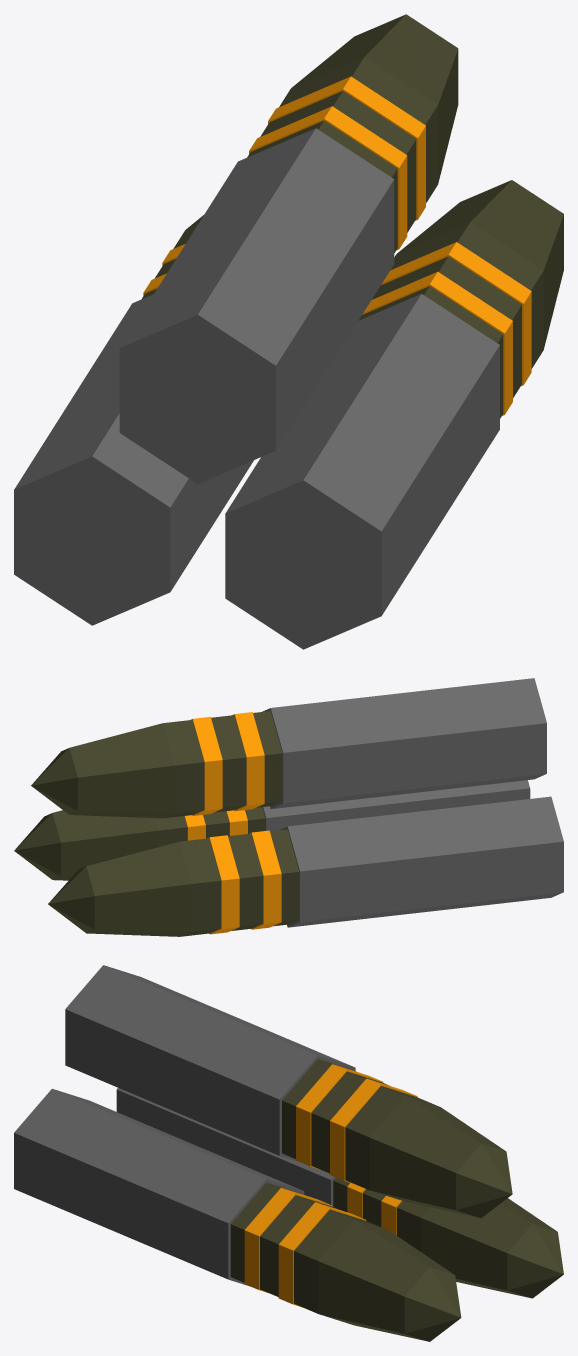
The model's file is ce_ammo2_rcl84_heab_b.obj.
3 renders of one model, top to bottom at view 1: azimuth 30°, elevation 25°; view 2: azimuth 150°, elevation 25°; view 3: azimuth 270°, elevation 25°, orthographic. The views are drawn at different scales.
Parts seen in each view (by area): view 1: ce_ammo2_rcl84_heab_b_16, ce_ammo2_rcl84_heab_b_8, ce_ammo2_rcl84_heab_b_0, ce_ammo2_rcl84_heab_b_14, ce_ammo2_rcl84_heab_b_22, ce_ammo2_rcl84_heab_b_13, ce_ammo2_rcl84_heab_b_21, ce_ammo2_rcl84_heab_b_19, ce_ammo2_rcl84_heab_b_18, ce_ammo2_rcl84_heab_b_20, ce_ammo2_rcl84_heab_b_11, ce_ammo2_rcl84_heab_b_10 (+3 smaller); view 2: ce_ammo2_rcl84_heab_b_0, ce_ammo2_rcl84_heab_b_16, ce_ammo2_rcl84_heab_b_6, ce_ammo2_rcl84_heab_b_22, ce_ammo2_rcl84_heab_b_8, ce_ammo2_rcl84_heab_b_14, ce_ammo2_rcl84_heab_b_5, ce_ammo2_rcl84_heab_b_21, ce_ammo2_rcl84_heab_b_19, ce_ammo2_rcl84_heab_b_3, ce_ammo2_rcl84_heab_b_4, ce_ammo2_rcl84_heab_b_2 (+12 smaller); view 3: ce_ammo2_rcl84_heab_b_16, ce_ammo2_rcl84_heab_b_8, ce_ammo2_rcl84_heab_b_22, ce_ammo2_rcl84_heab_b_14, ce_ammo2_rcl84_heab_b_6, ce_ammo2_rcl84_heab_b_0, ce_ammo2_rcl84_heab_b_15, ce_ammo2_rcl84_heab_b_7, ce_ammo2_rcl84_heab_b_23, ce_ammo2_rcl84_heab_b_21, ce_ammo2_rcl84_heab_b_13, ce_ammo2_rcl84_heab_b_11 (+11 smaller).
Boxes of the visible parts, <box> form: ce_ammo2_rcl84_heab_b_16: <box>119,128,394,483</box>; ce_ammo2_rcl84_heab_b_8: <box>225,293,499,649</box>; ce_ammo2_rcl84_heab_b_0: <box>14,294,253,625</box>; ce_ammo2_rcl84_heab_b_14: <box>397,180,563,349</box>; ce_ammo2_rcl84_heab_b_22: <box>292,14,458,183</box>; ce_ammo2_rcl84_heab_b_13: <box>390,222,543,368</box>; ce_ammo2_rcl84_heab_b_21: <box>279,57,437,202</box>; ce_ammo2_rcl84_heab_b_19: <box>260,91,416,232</box>; ce_ammo2_rcl84_heab_b_18: <box>249,106,407,249</box>; ce_ammo2_rcl84_heab_b_20: <box>268,76,425,220</box>; ce_ammo2_rcl84_heab_b_11: <box>372,256,521,397</box>; ce_ammo2_rcl84_heab_b_10: <box>362,271,512,415</box>; ce_ammo2_rcl84_heab_b_0: <box>279,796,563,927</box>; ce_ammo2_rcl84_heab_b_16: <box>262,678,546,808</box>; ce_ammo2_rcl84_heab_b_6: <box>86,841,191,936</box>; ce_ammo2_rcl84_heab_b_22: <box>69,723,174,818</box>; ce_ammo2_rcl84_heab_b_8: <box>262,780,530,831</box>; ce_ammo2_rcl84_heab_b_14: <box>52,810,157,880</box>; ce_ammo2_rcl84_heab_b_5: <box>180,838,221,936</box>; ce_ammo2_rcl84_heab_b_21: <box>163,720,204,818</box>; ce_ammo2_rcl84_heab_b_19: <box>211,715,246,812</box>; ce_ammo2_rcl84_heab_b_3: <box>228,833,263,930</box>; ce_ammo2_rcl84_heab_b_4: <box>207,835,239,934</box>; ce_ammo2_rcl84_heab_b_2: <box>249,830,281,929</box>; ce_ammo2_rcl84_heab_b_16: <box>65,965,355,1162</box>; ce_ammo2_rcl84_heab_b_8: <box>14,1088,304,1286</box>; ce_ammo2_rcl84_heab_b_22: <box>369,1096,505,1217</box>; ce_ammo2_rcl84_heab_b_14: <box>318,1219,454,1341</box>; ce_ammo2_rcl84_heab_b_6: <box>421,1198,556,1297</box>; ce_ammo2_rcl84_heab_b_0: <box>116,1088,335,1206</box>; ce_ammo2_rcl84_heab_b_15: <box>404,1267,461,1341</box>; ce_ammo2_rcl84_heab_b_7: <box>507,1224,563,1298</box>; ce_ammo2_rcl84_heab_b_23: <box>456,1143,512,1218</box>; ce_ammo2_rcl84_heab_b_21: <box>345,1086,439,1190</box>; ce_ammo2_rcl84_heab_b_13: <box>294,1209,387,1313</box>; ce_ammo2_rcl84_heab_b_11: <box>260,1195,338,1296</box>.
Bounding box in the file's own units: 0.758 × 0.326 × 0.758.
